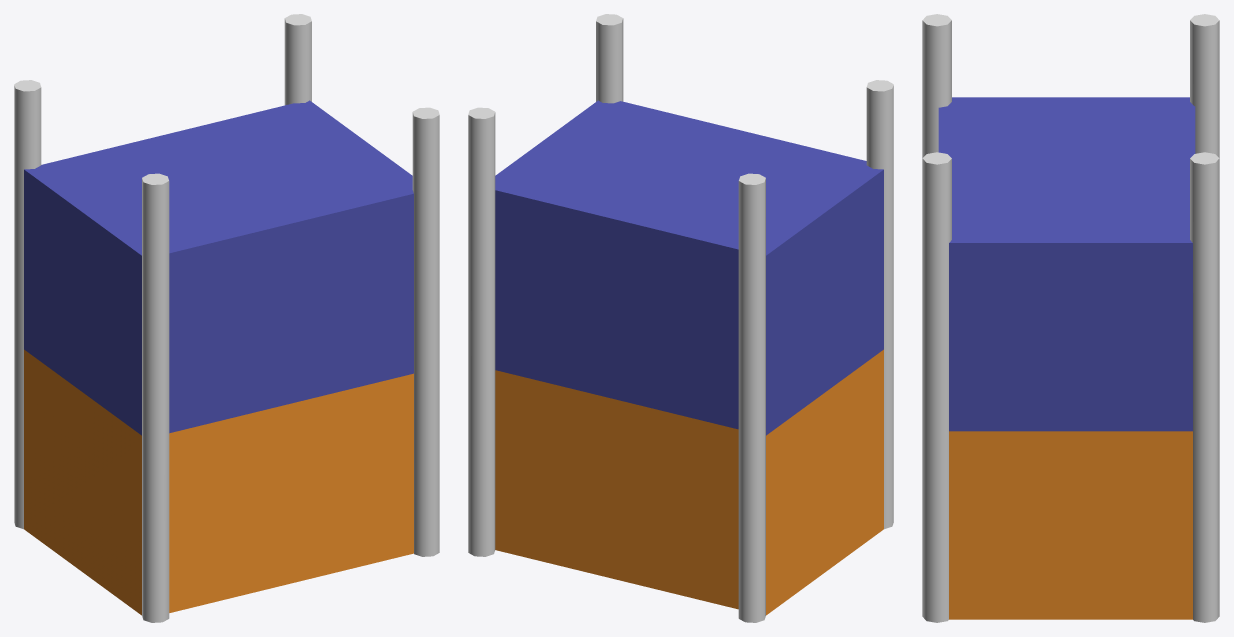
Rendered from duvar.FBX.
3 views of the same model, side by side, from view 1: azimuth 30°, elevation 25°; view 2: azimuth 150°, elevation 25°; view 3: azimuth 270°, elevation 25° (orthographic). The views are drawn at different scales.
Visible parts, largest first — view 1: Box001, Cylinder001, Cylinder002, Cylinder004, Cylinder003; view 2: Box001, Cylinder003, Cylinder004, Cylinder001, Cylinder002; view 3: Box001, Cylinder003, Cylinder002, Cylinder004, Cylinder001.
Boxes of the visible parts, left/top/right/bottom form: Box001: left=24, top=100, right=413, bottom=615; Cylinder001: left=142, top=173, right=169, bottom=622; Cylinder002: left=412, top=107, right=439, bottom=556; Cylinder004: left=14, top=80, right=41, bottom=529; Cylinder003: left=284, top=14, right=311, bottom=105; Box001: left=495, top=100, right=883, bottom=615; Cylinder003: left=468, top=107, right=495, bottom=556; Cylinder004: left=738, top=173, right=765, bottom=622; Cylinder001: left=866, top=80, right=893, bottom=529; Cylinder002: left=596, top=14, right=623, bottom=103; Box001: left=938, top=97, right=1195, bottom=619; Cylinder003: left=1190, top=152, right=1219, bottom=622; Cylinder002: left=922, top=152, right=951, bottom=622; Cylinder004: left=1190, top=14, right=1219, bottom=157; Cylinder001: left=922, top=14, right=951, bottom=157.
Size of the model in its own units: 79.37 by 113 by 66.14.
